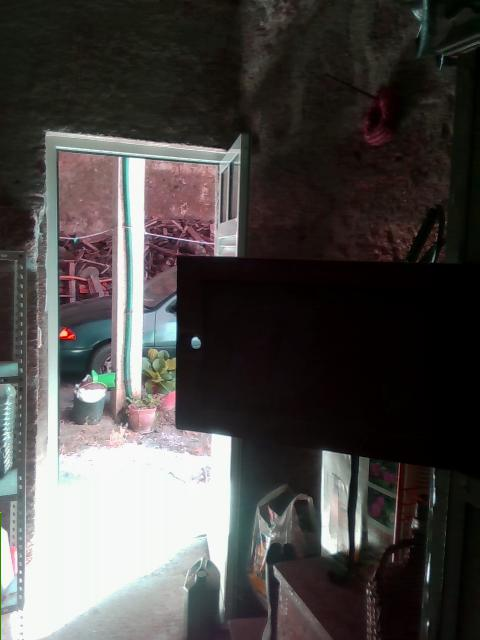open_door: (41, 126, 228, 607)
